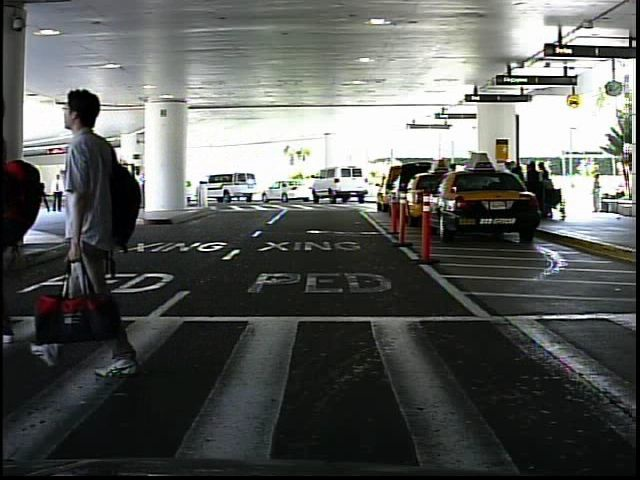person: (57, 68, 158, 384), (588, 171, 607, 216), (51, 171, 67, 214)
